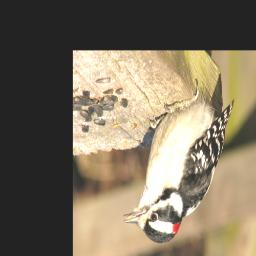Woodpecker: (121, 78, 236, 242)
